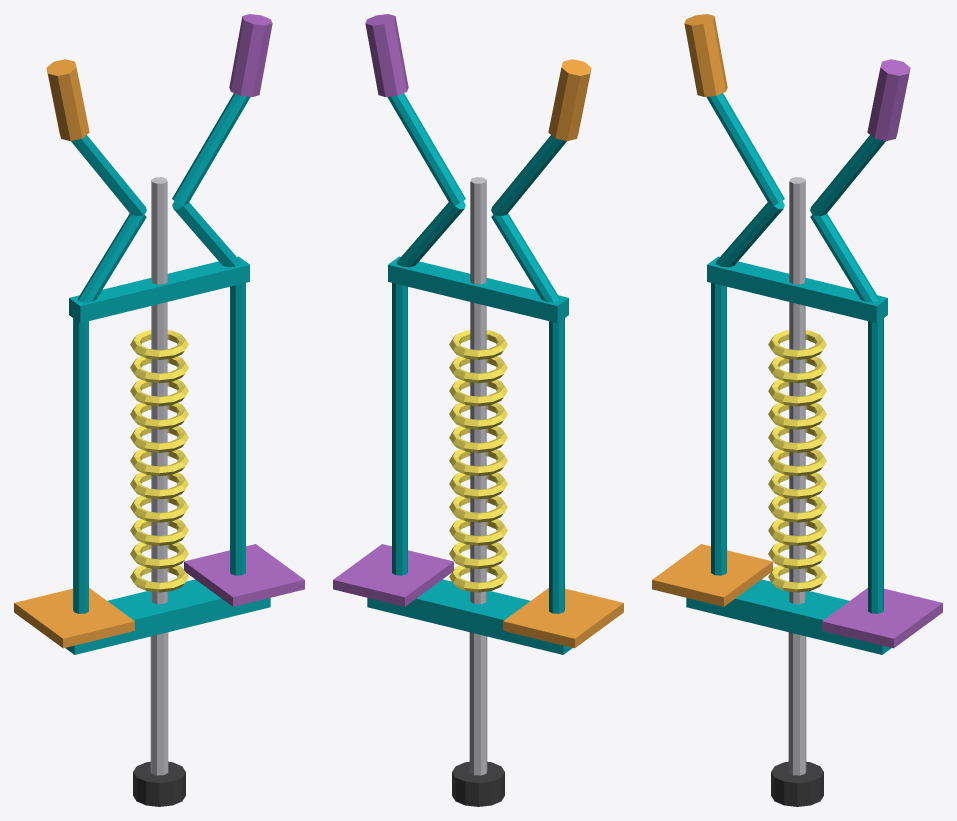
Rendered from PogoStick.fbx.
3 views of the same model, side by side, from view 1: azimuth 30°, elevation 25°; view 2: azimuth 150°, elevation 25°; view 3: azimuth 330°, elevation 25° (orthographic).
Visible parts, largest first — view 1: PogoStick; view 2: PogoStick; view 3: PogoStick.
Part boxes in pixels (box(x1,y1,x2,y2)): PogoStick: box(14, 14, 304, 806); PogoStick: box(333, 14, 623, 806); PogoStick: box(652, 14, 942, 806).
Size of the model in its own units: 37 by 110 by 13.
